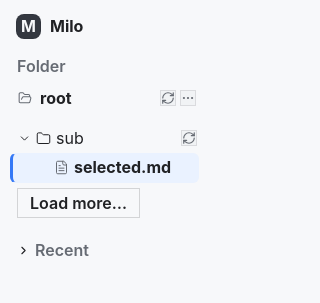
Test: folder expansion and request lifetimes › ignores a late page after refresh and keeps the selected document and expanded branch
This screenshot has width=320, height=303.
Click the button "Load more…".
click(79, 203)  # box [17, 188, 140, 218]
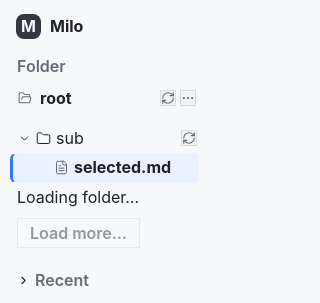
Click the button named "Refresh folder".
click(168, 98)  # box [160, 90, 176, 106]
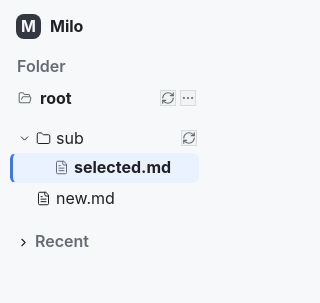
Now the button "new.md" is shown, box [10, 184, 199, 213]
